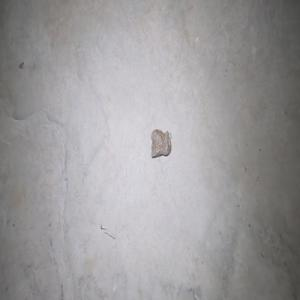Rock: (150, 127, 171, 158)
